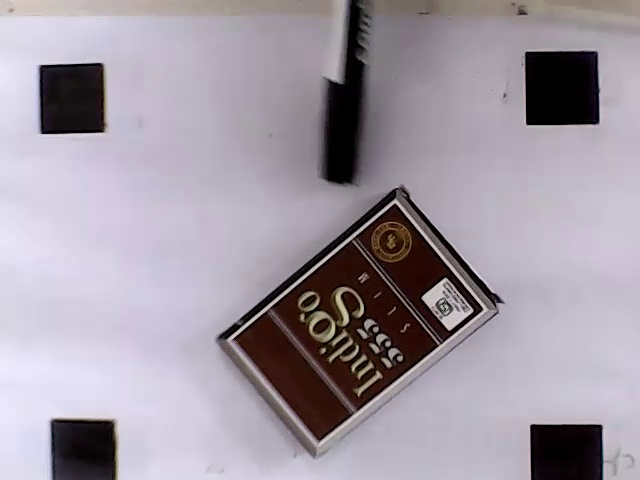BEX: (228, 199, 486, 444)
